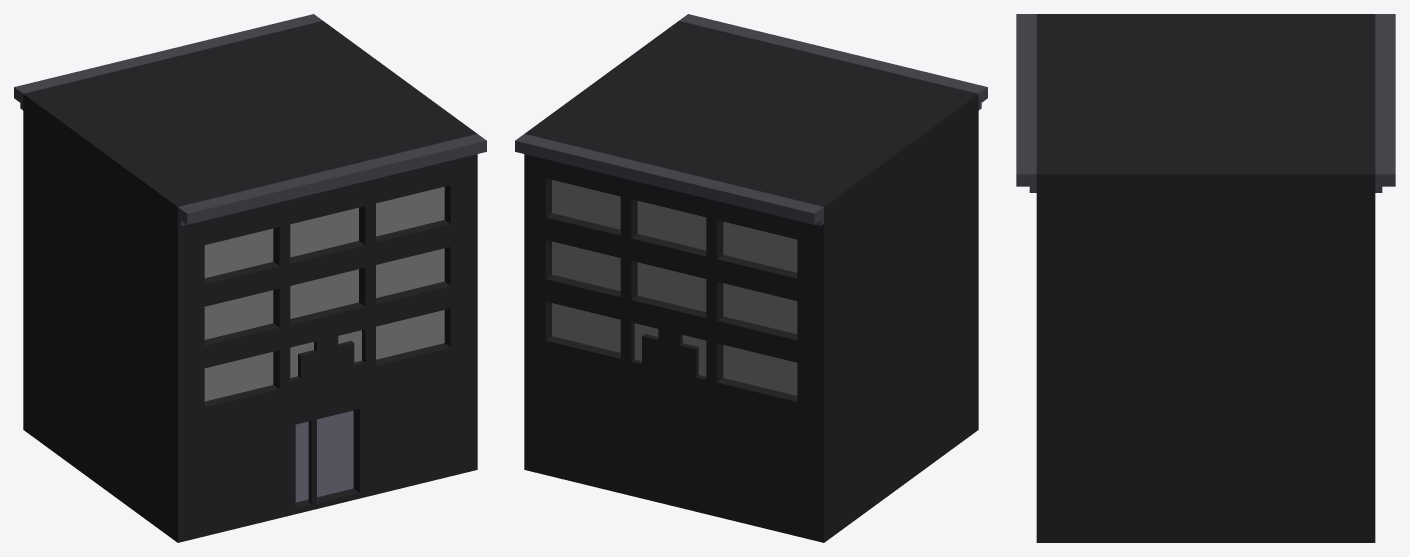
Rendered from Building008(1).obj.
The picture shows the model from 3 angles, left to right: view 1: azimuth 30°, elevation 25°; view 2: azimuth 150°, elevation 25°; view 3: azimuth 270°, elevation 25°; orthographic projection. The views are drawn at different scales.
Bounding box in the file's own units: 5.6 × 6 × 5.6.
1 material, 1 textured.
